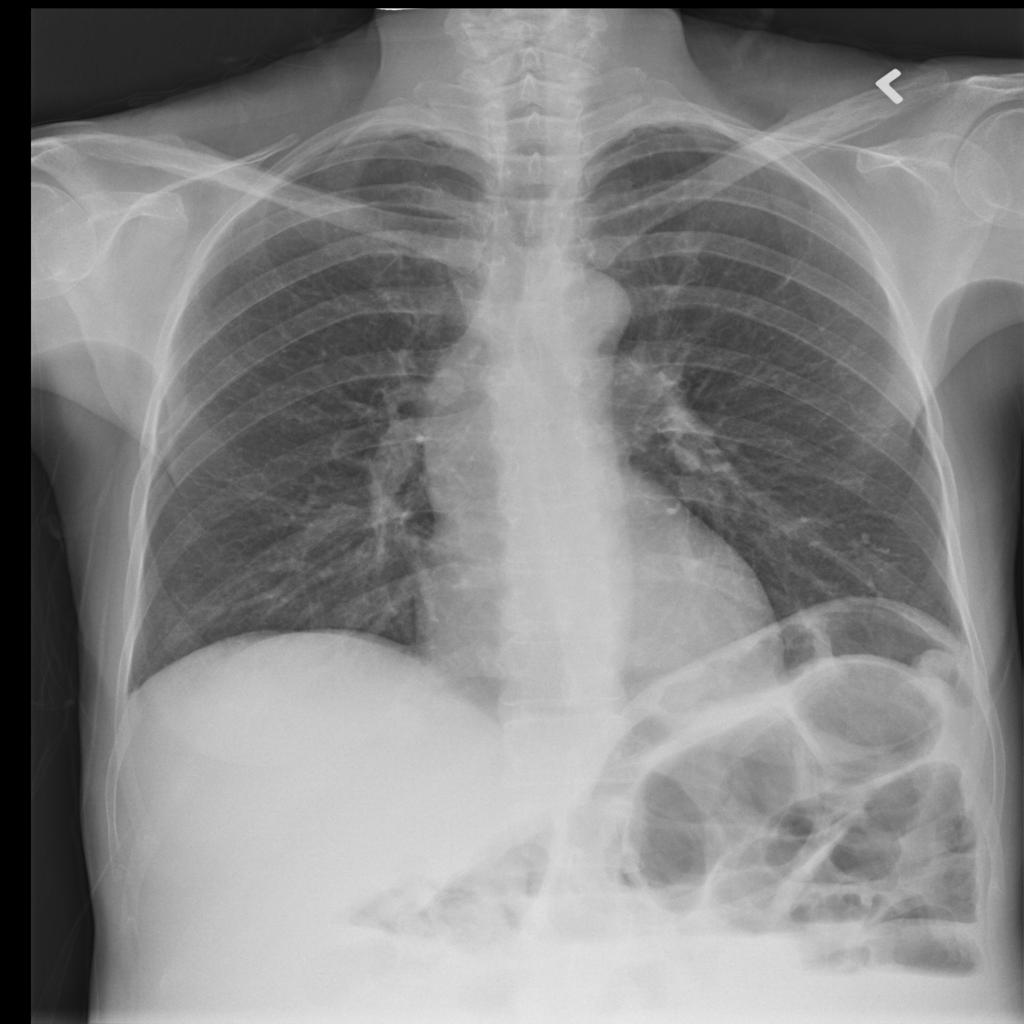nodule: (411, 354, 484, 419)
